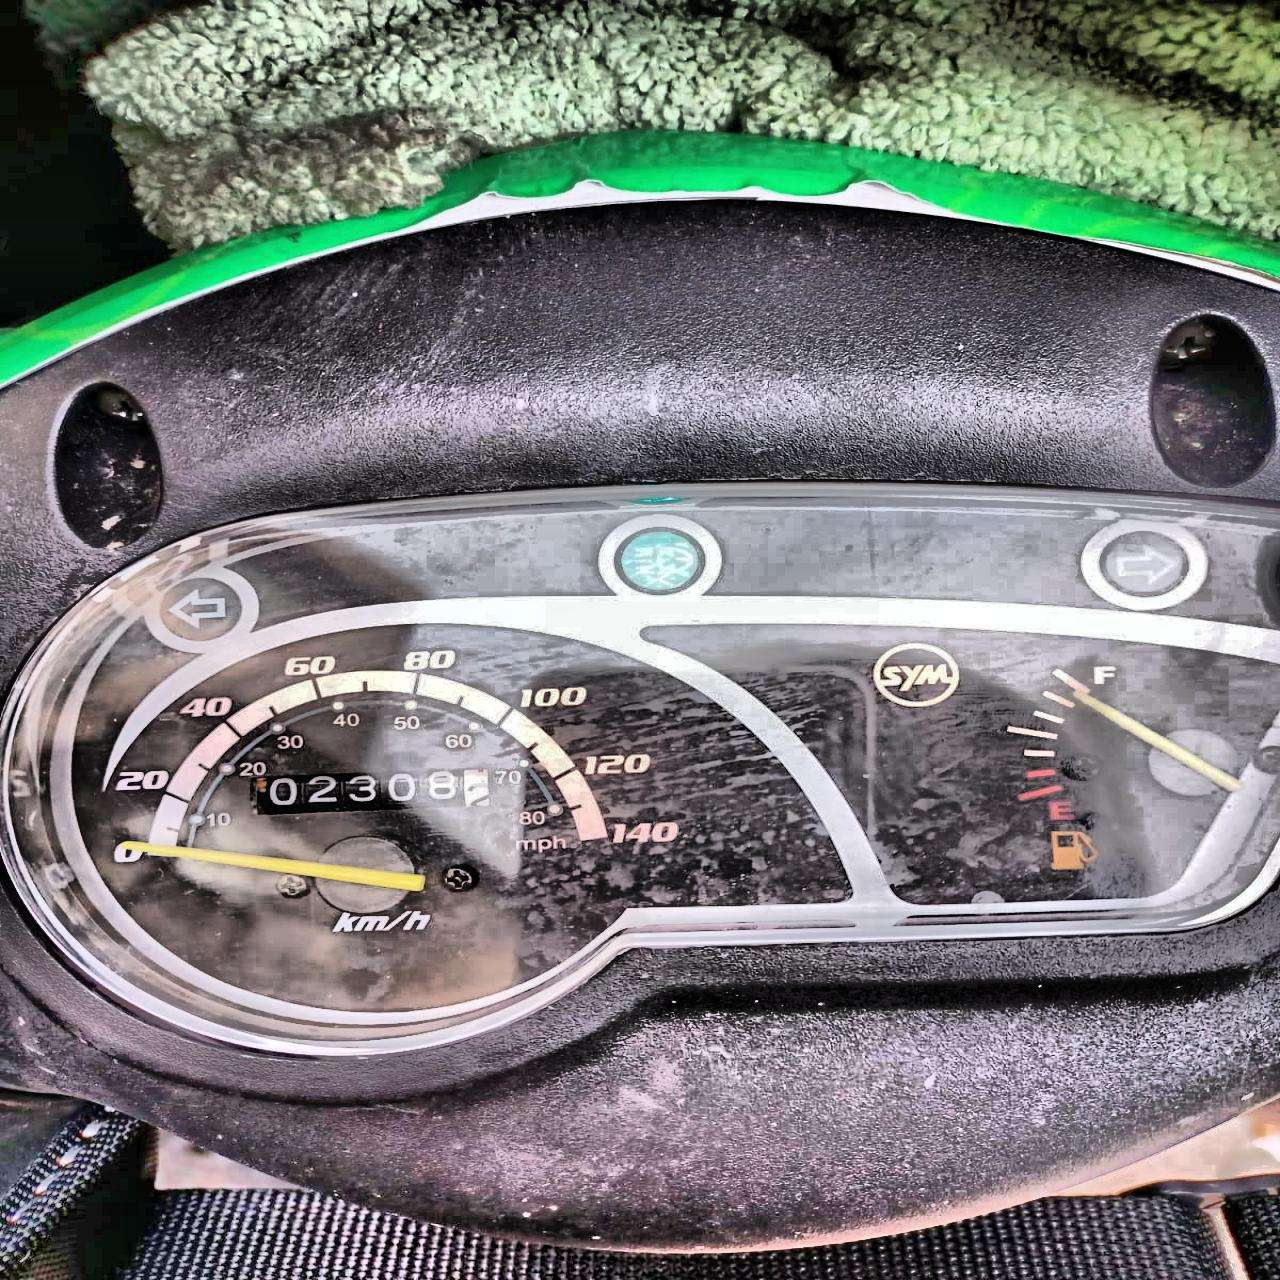0: (386, 770, 417, 804), (267, 776, 298, 806), (252, 762, 266, 775)
2: (304, 775, 339, 805), (464, 782, 490, 811)
3: (347, 774, 379, 803)
8: (425, 769, 456, 801)
odometer: (252, 764, 493, 817)
